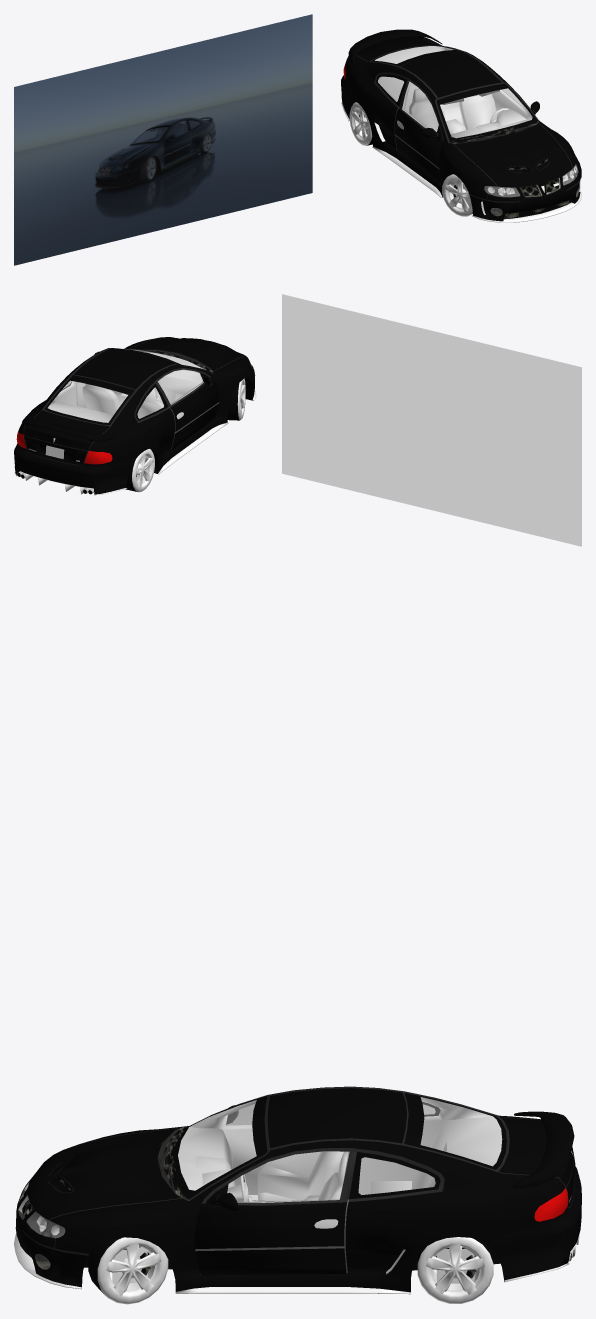
File: pontiac-gto-2004.glb
The picture shows the model from 3 angles, top to bottom: view 1: azimuth 30°, elevation 25°; view 2: azimuth 150°, elevation 25°; view 3: azimuth 270°, elevation 25°; orthographic projection. The views are drawn at different scales.
Visible parts, largest first — view 1: Material3 (×6), Material2 (×3); view 2: Material2 (×3), Material3 (×7); view 3: Material3 (×5), Material2 (×3).
Part boxes in pixels (<box>): Material3 (×6): <box>14,14,581,265</box>; Material2 (×3): <box>356,38,580,218</box>; Material2 (×3): <box>23,294,581,546</box>; Material3 (×7): <box>14,337,256,495</box>; Material3 (×5): <box>14,1086,581,1304</box>; Material2 (×3): <box>18,1086,574,1278</box>.
Bounding box in the file's own units: 419 × 146 × 239.
23 materials, 2 textured.
